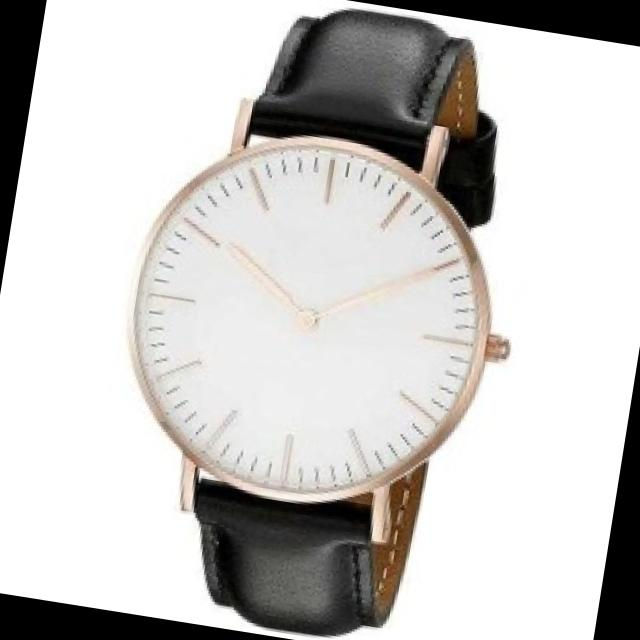saat: (78, 0, 570, 640)
